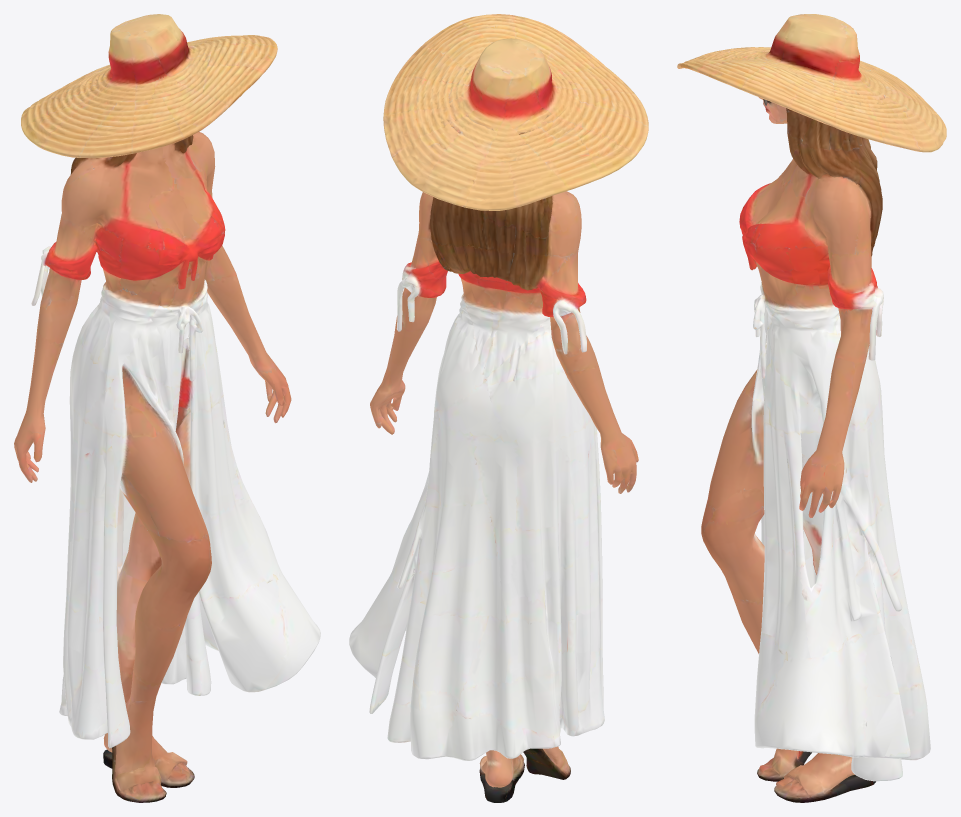
Rendered from beachgoer.glb.
The picture shows the model from 3 angles, left to right: view 1: azimuth 30°, elevation 25°; view 2: azimuth 150°, elevation 25°; view 3: azimuth 270°, elevation 25°; orthographic projection. The views are drawn at different scales.
Bounding box in the file's own units: 0.7706 × 1.9 × 0.6038.
Materials: 1 (1 with a texture image).
